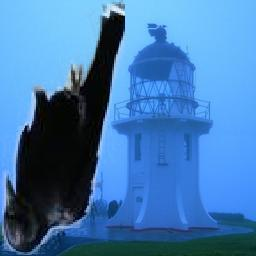Crow: (1, 1, 126, 256)
